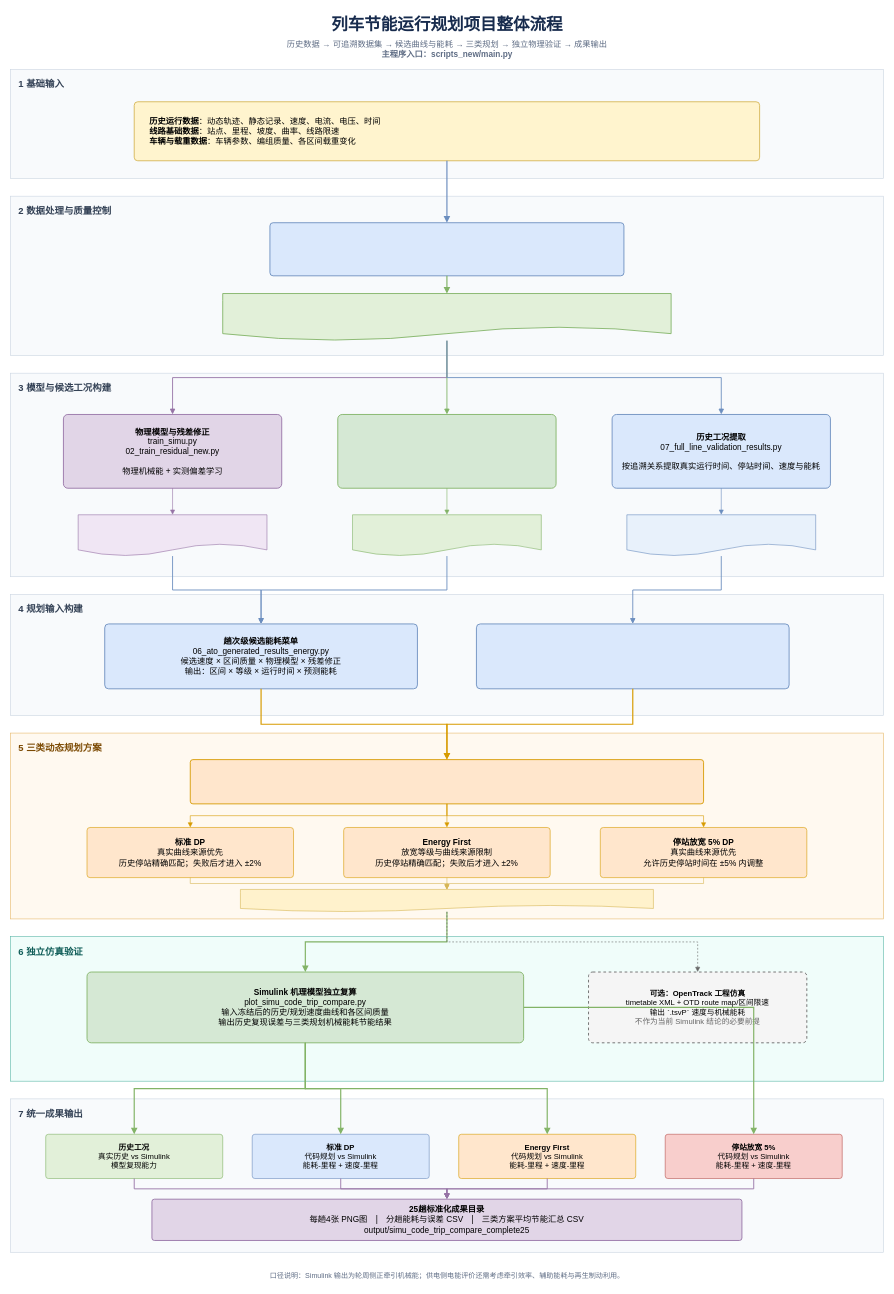
Some shapes in this 894 by 1294 pixel diagram are drawn without their labels. Each missing label, with the centre of its shape:
ATO 模板与候选曲线 04_train_ATO_v8.py 05_simulate_ATO_v8.py 质量标签0真实曲线 + 受控插值/相邻外推: pixel 446 451
v4候选速度曲线库 每区间、每等级、逐点曲线及来源标签: pixel 446 535
全线动态规划 08_ato_class_globall_v2.py 在目标总时间、停站边界、等级可用性和曲线来源约束下选择低能耗组合: pixel 447 781
分区间残差模型 权重 + scaler + 特征定义: pixel 172 535
历史运行基准 运行/停站时间、实测能耗、历史速度: pixel 721 535
原始数据清洗与区间分段 01_data_process.py 计算速度、加速度、累计里程及历史实测能耗: pixel 446 249
统一可追溯区间数据集 逐点轨迹 + 全局趟次 run_id/本地 segment + 前后站连续关系 曲线质量标签 + 区间质量/载重 + 运行等级: pixel 446 317
统一规划结果 ：逐区间等级、运行时间、停站时间、规划能耗及对应速度曲线: pixel 446 900
规划约束与比较基准 历史运行时间与停站时间 历史实测能耗、质量和速度曲线 保证规划与同一全局趟次对应: pixel 632 656
